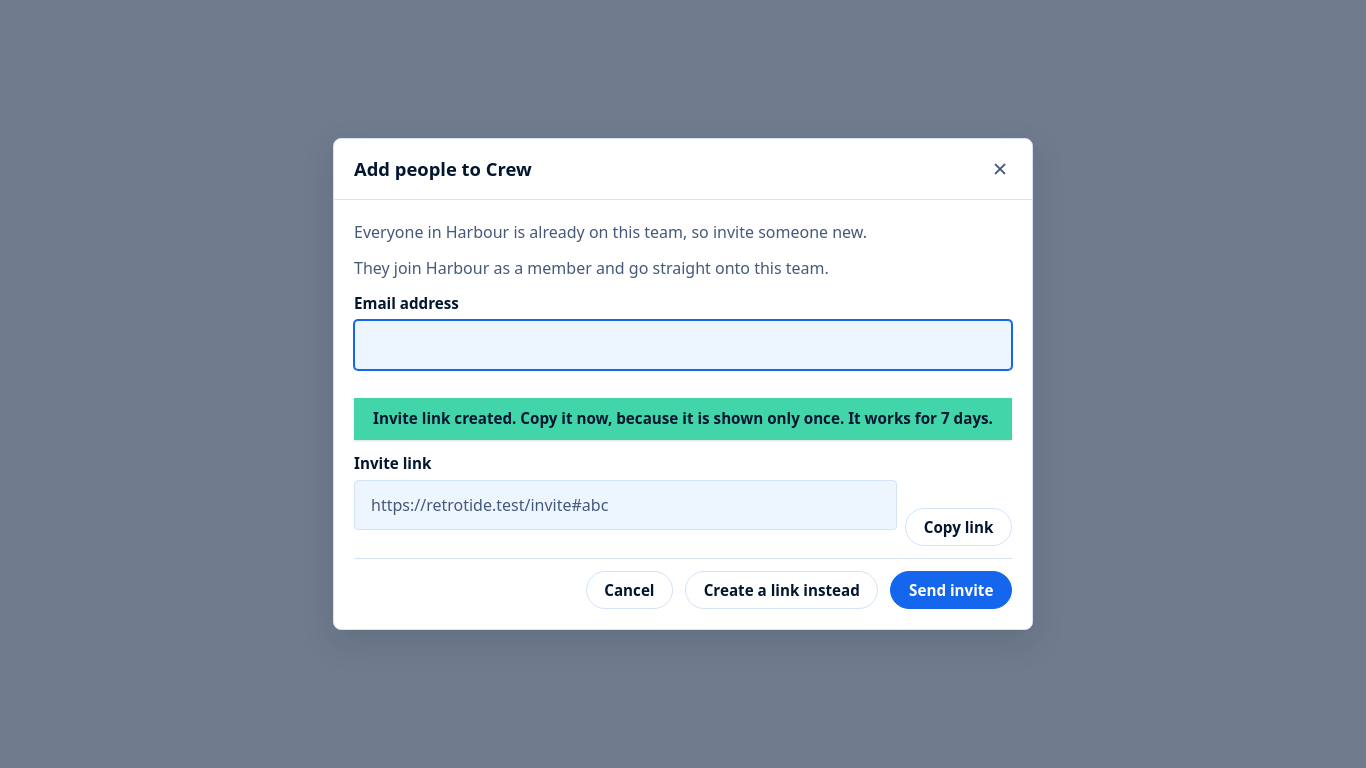
Test case: AddPeopleDialog inviting someone new › creates a link invite for this team and lets the viewer copy it
Click the button "Create a link instead" at coordinates (782, 590), box [685,571,878,609]
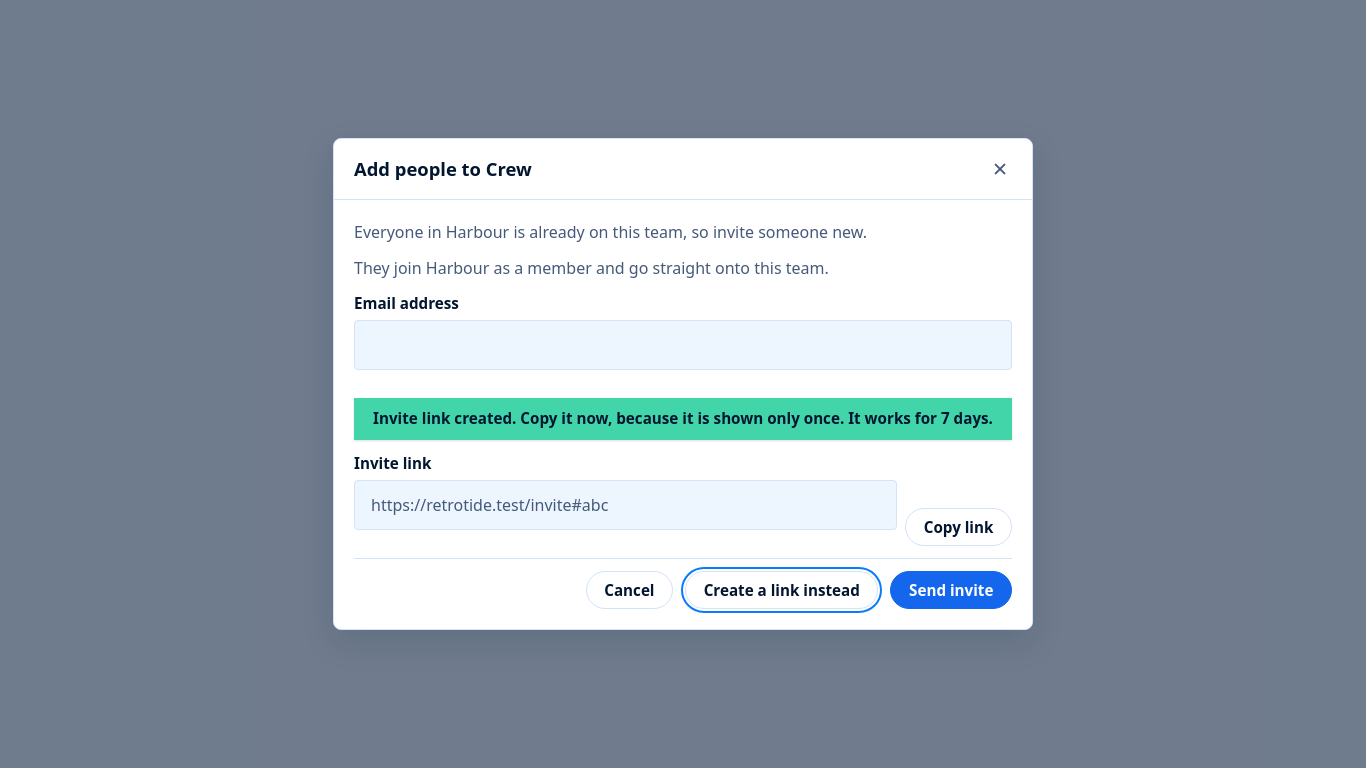
Click the button "Copy link" at coordinates (959, 527), box [905,508,1012,546]
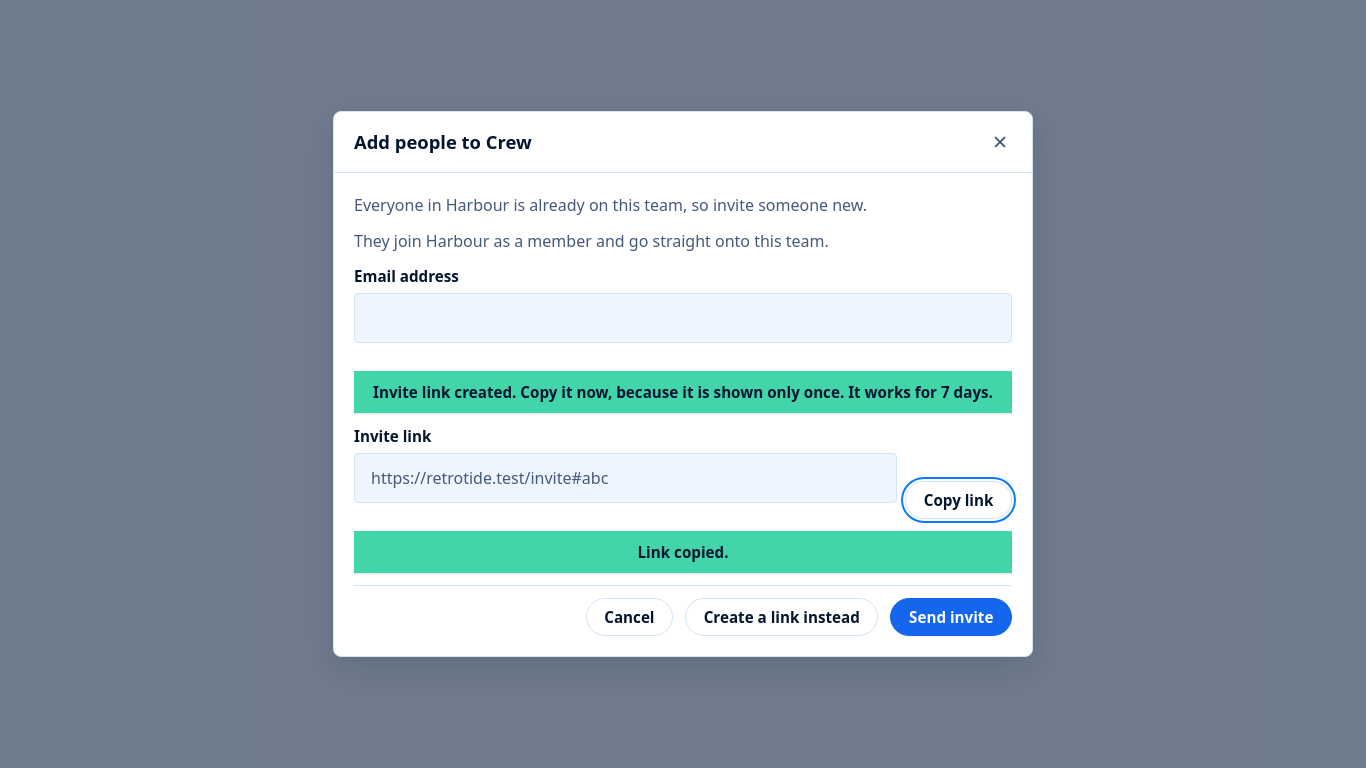
Expected: the field labelled "Invite link" holds "https://retrotide.test/invite#abc", [354,453,897,503]
Now the text "Link copied." is shown, box [638,541,728,564]
